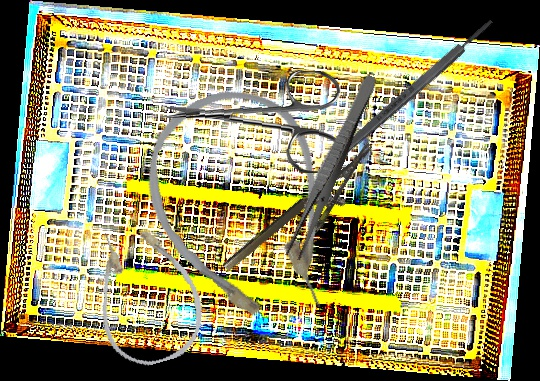Cannula: (123, 69, 363, 350), (79, 213, 214, 375)
Dressing Forceps: (282, 71, 380, 262)
Iris Scissors: (157, 63, 348, 175)
Needle Holder: (221, 142, 392, 292)
Scalpel Handle: (319, 16, 496, 173)
